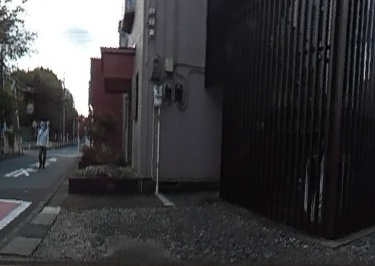person: (35, 120, 48, 167)
